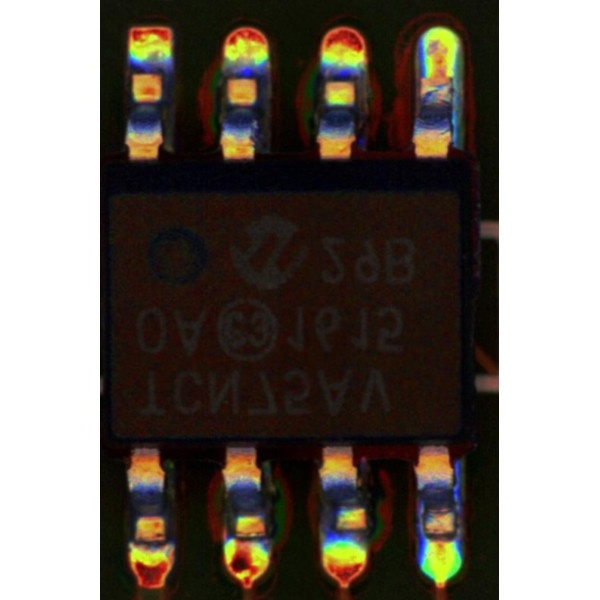Bad_podu: (428, 56, 448, 98), (428, 520, 450, 551)
Bad_qiaojiao: (235, 521, 256, 552)
